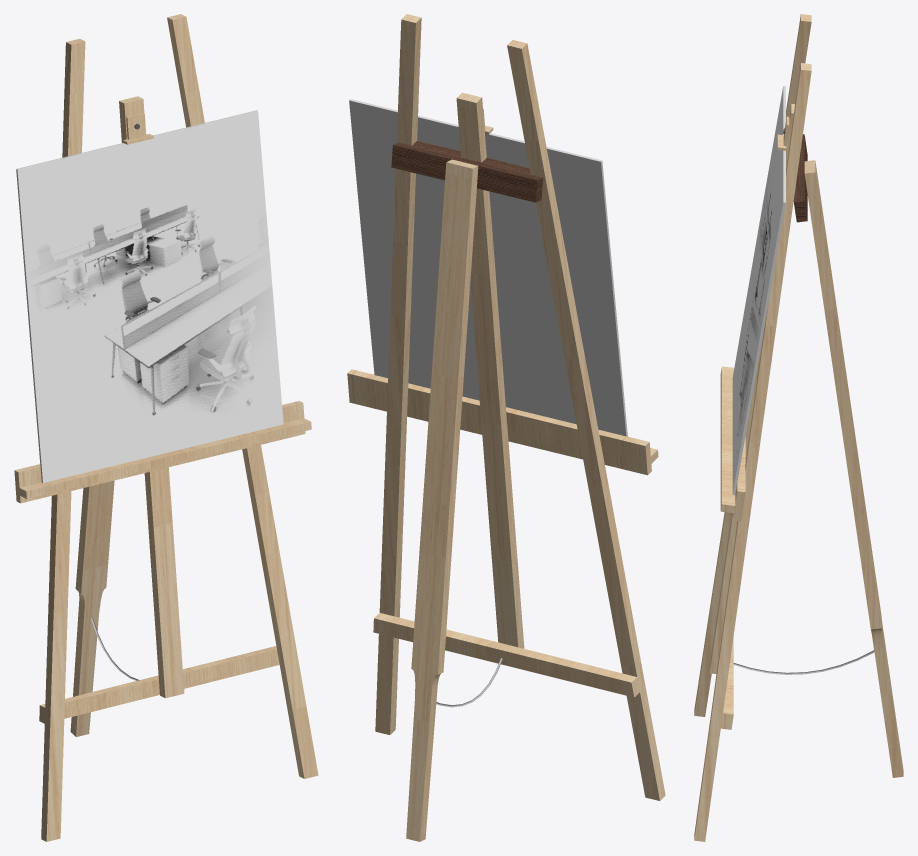
File: Caballete.glb
3 renders of one model, left to right at view 1: azimuth 30°, elevation 25°; view 2: azimuth 150°, elevation 25°; view 3: azimuth 270°, elevation 25°, orthographic. The views are drawn at different scales.
Visible parts, largest first — view 1: 4dd46060-e959-4a54-8b48-5ad3ce4b50fd, f8ab2916-fa6e-4a38-a42f-546ea619444e, 25a89872-13fd-4fb3-a0c6-c17672f68f18, f3a2694a-45f1-40e4-ad6d-22dc9f42f6fd, 48dede19-1101-4804-ae4e-b687d46aa6c5, fb5a16d7-0613-454b-91b4-530ce3615554, 0086e35d-470d-438f-9b2d-2760ded67fe7, 9d091e35-774a-406e-b78a-9c6bd36b7539, f392ee4f-29b4-460a-8626-6097194e57fa; view 2: 9d091e35-774a-406e-b78a-9c6bd36b7539, 48dede19-1101-4804-ae4e-b687d46aa6c5, f8ab2916-fa6e-4a38-a42f-546ea619444e, 25a89872-13fd-4fb3-a0c6-c17672f68f18, f3a2694a-45f1-40e4-ad6d-22dc9f42f6fd, fb5a16d7-0613-454b-91b4-530ce3615554, 0086e35d-470d-438f-9b2d-2760ded67fe7, ad69bec5-a415-4046-b1d4-d5105704f131, 50628522-4c42-4d8a-bf8a-7e79ae206828; view 3: 25a89872-13fd-4fb3-a0c6-c17672f68f18, 48dede19-1101-4804-ae4e-b687d46aa6c5, 4dd46060-e959-4a54-8b48-5ad3ce4b50fd, f8ab2916-fa6e-4a38-a42f-546ea619444e, fb5a16d7-0613-454b-91b4-530ce3615554, f3a2694a-45f1-40e4-ad6d-22dc9f42f6fd, 9d091e35-774a-406e-b78a-9c6bd36b7539, ad69bec5-a415-4046-b1d4-d5105704f131, 0086e35d-470d-438f-9b2d-2760ded67fe7, d8b74fd0-ea13-4d38-83cf-caa4ac24b104.
Boxes of the visible parts, left/top/right/bottom form: 4dd46060-e959-4a54-8b48-5ad3ce4b50fd: left=17, top=111, right=283, bottom=482; f8ab2916-fa6e-4a38-a42f-546ea619444e: left=41, top=38, right=85, bottom=841; 25a89872-13fd-4fb3-a0c6-c17672f68f18: left=167, top=14, right=318, bottom=778; f3a2694a-45f1-40e4-ad6d-22dc9f42f6fd: left=119, top=96, right=184, bottom=698; 48dede19-1101-4804-ae4e-b687d46aa6c5: left=70, top=480, right=114, bottom=736; fb5a16d7-0613-454b-91b4-530ce3615554: left=14, top=401, right=311, bottom=503; 0086e35d-470d-438f-9b2d-2760ded67fe7: left=39, top=646, right=279, bottom=723; 9d091e35-774a-406e-b78a-9c6bd36b7539: left=16, top=110, right=257, bottom=482; f392ee4f-29b4-460a-8626-6097194e57fa: left=123, top=112, right=153, bottom=144; 9d091e35-774a-406e-b78a-9c6bd36b7539: left=349, top=99, right=627, bottom=436; 48dede19-1101-4804-ae4e-b687d46aa6c5: left=406, top=159, right=478, bottom=841; f8ab2916-fa6e-4a38-a42f-546ea619444e: left=507, top=40, right=665, bottom=800; 25a89872-13fd-4fb3-a0c6-c17672f68f18: left=375, top=14, right=421, bottom=734; f3a2694a-45f1-40e4-ad6d-22dc9f42f6fd: left=456, top=92, right=524, bottom=648; fb5a16d7-0613-454b-91b4-530ce3615554: left=347, top=369, right=658, bottom=475; 0086e35d-470d-438f-9b2d-2760ded67fe7: left=373, top=613, right=639, bottom=697; ad69bec5-a415-4046-b1d4-d5105704f131: left=391, top=142, right=543, bottom=202; 50628522-4c42-4d8a-bf8a-7e79ae206828: left=412, top=140, right=530, bottom=174; 25a89872-13fd-4fb3-a0c6-c17672f68f18: left=694, top=63, right=811, bottom=841; 48dede19-1101-4804-ae4e-b687d46aa6c5: left=804, top=160, right=903, bottom=777; 4dd46060-e959-4a54-8b48-5ad3ce4b50fd: left=732, top=87, right=783, bottom=492; f8ab2916-fa6e-4a38-a42f-546ea619444e: left=694, top=14, right=811, bottom=716; fb5a16d7-0613-454b-91b4-530ce3615554: left=720, top=366, right=745, bottom=521; f3a2694a-45f1-40e4-ad6d-22dc9f42f6fd: left=710, top=104, right=794, bottom=673; 9d091e35-774a-406e-b78a-9c6bd36b7539: left=732, top=86, right=785, bottom=494; ad69bec5-a415-4046-b1d4-d5105704f131: left=793, top=134, right=807, bottom=222; 0086e35d-470d-438f-9b2d-2760ded67fe7: left=721, top=637, right=733, bottom=729; d8b74fd0-ea13-4d38-83cf-caa4ac24b104: left=733, top=650, right=874, bottom=674.
Bounding box in the file's own units: 0.6 × 1.49 × 0.3846.
6 materials, 3 textured.
